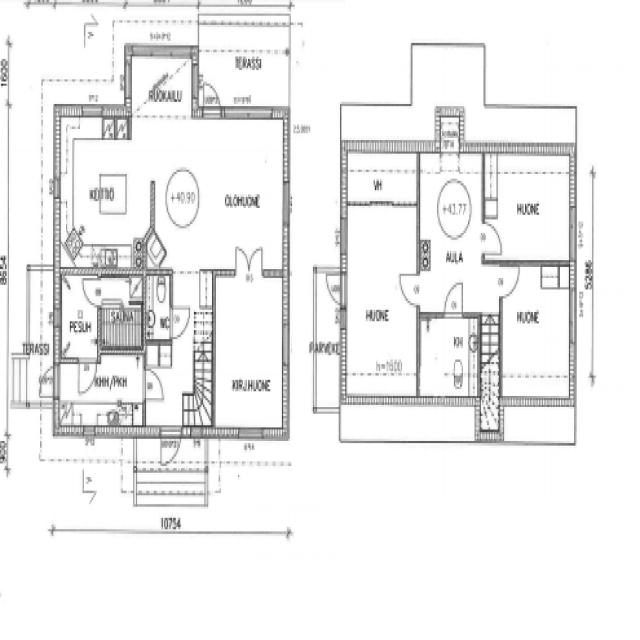door: (198, 78, 225, 122), (479, 218, 505, 260), (232, 244, 266, 276), (159, 426, 183, 470), (322, 271, 346, 315), (396, 268, 421, 310), (141, 364, 167, 404), (497, 260, 522, 301), (77, 98, 103, 135), (168, 304, 192, 342), (76, 355, 96, 398), (444, 280, 465, 319), (80, 274, 102, 309), (39, 362, 60, 397)
window: (222, 102, 280, 126), (232, 423, 273, 447), (47, 164, 64, 208)
zone: (145, 114, 288, 277), (342, 174, 418, 410), (53, 119, 152, 274), (210, 274, 289, 440), (417, 148, 484, 311), (501, 263, 574, 410), (484, 151, 574, 264), (54, 351, 145, 437), (418, 312, 480, 402), (311, 262, 346, 374), (59, 274, 100, 363), (498, 400, 578, 444), (98, 278, 144, 351), (143, 272, 171, 343)
